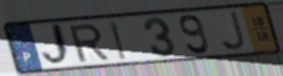3: (143, 15, 177, 58)
9: (179, 13, 210, 55)
I: (107, 19, 128, 62)
J: (40, 21, 75, 69), (218, 9, 247, 53)
R: (66, 22, 111, 64)
